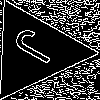J: (9, 26, 70, 72)
